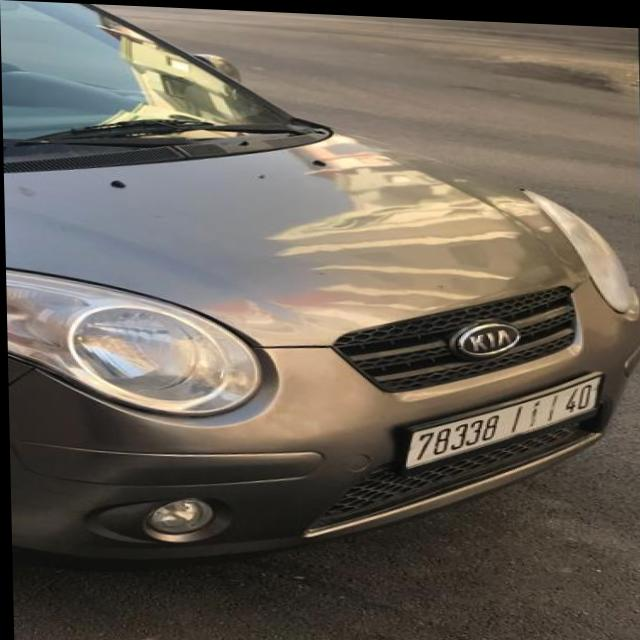License-Plate: (403, 369, 600, 464)
